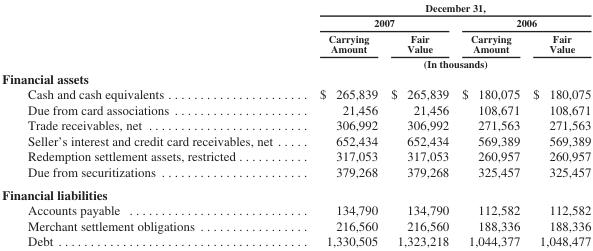table: (1, 0, 590, 248)
table column: (1, 0, 295, 248), (295, 0, 383, 248), (383, 0, 454, 248), (454, 0, 525, 248), (525, 0, 590, 248)
table column header: (1, 0, 590, 70)
table projected row header: (1, 182, 590, 202), (1, 70, 590, 86)
table row: (1, 30, 590, 56), (1, 182, 590, 202), (1, 163, 590, 182), (1, 14, 590, 30), (1, 70, 590, 86), (1, 101, 590, 117), (1, 132, 590, 148), (1, 217, 590, 233), (1, 86, 590, 101), (1, 117, 590, 132), (1, 148, 590, 163), (1, 202, 590, 217), (1, 233, 590, 248), (1, 0, 590, 14), (1, 56, 590, 70)
table spanning cell: (295, 55, 590, 70), (295, 0, 590, 14), (295, 14, 454, 30), (454, 14, 590, 30)
